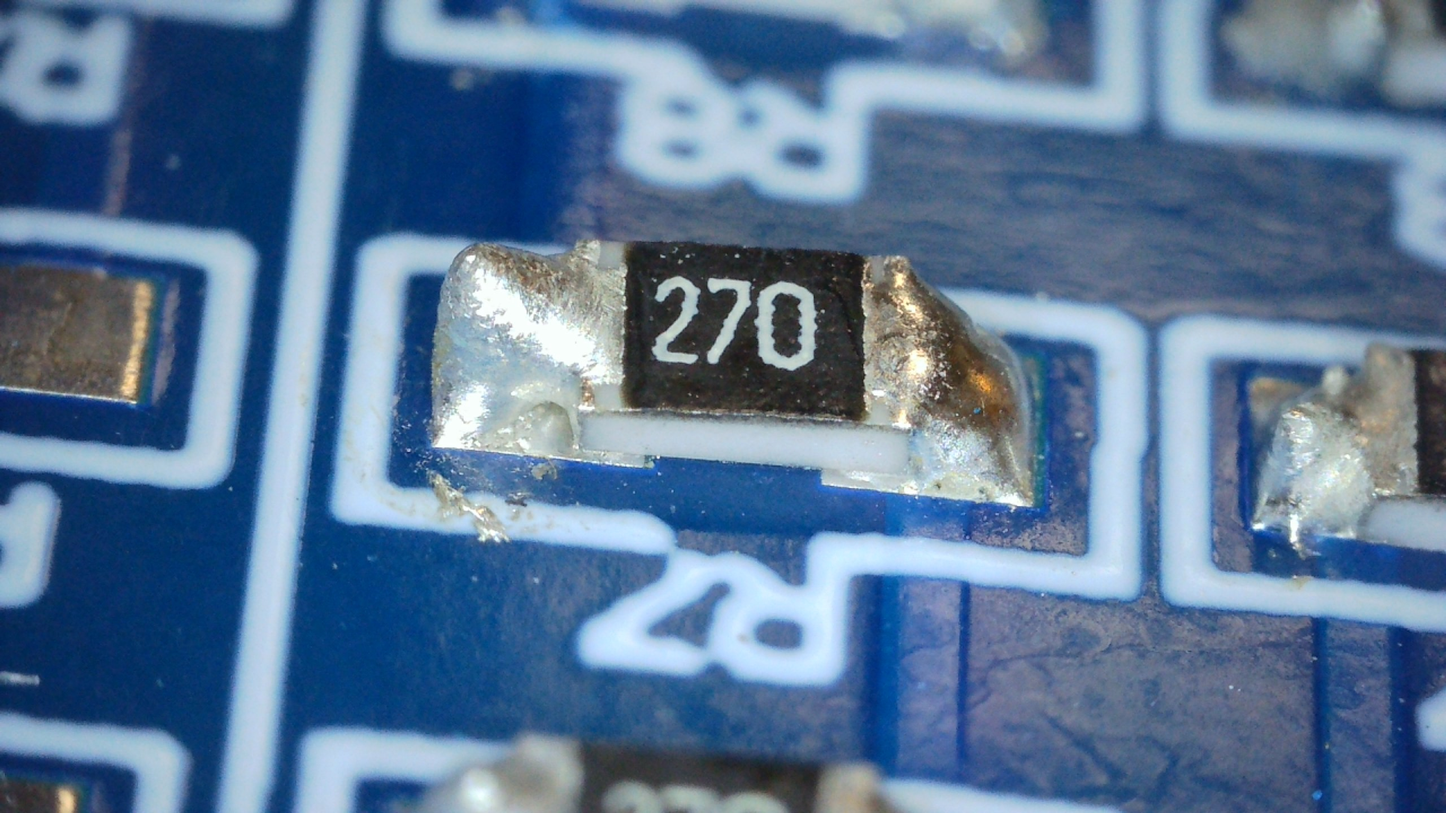NG: (862, 257, 1035, 504), (429, 242, 623, 456)
